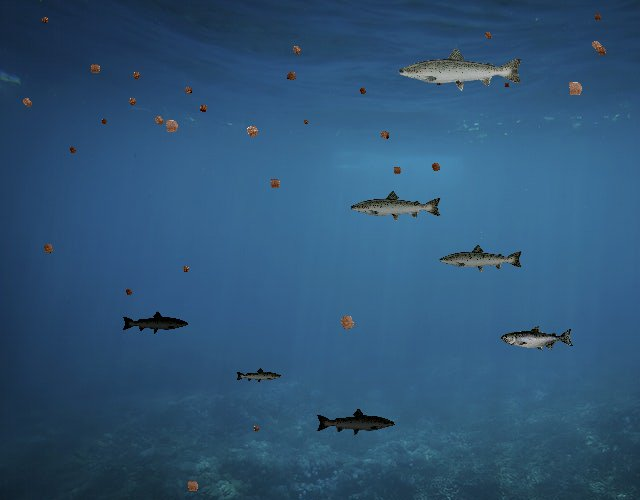Fish: (396, 46, 525, 92), (350, 190, 444, 223), (438, 243, 524, 274), (315, 408, 396, 437), (501, 326, 574, 352), (122, 311, 190, 335), (235, 368, 282, 385)
Pellet: (240, 119, 265, 144), (181, 475, 204, 498), (178, 262, 193, 277), (122, 285, 136, 299), (38, 13, 52, 27), (250, 423, 262, 435)
